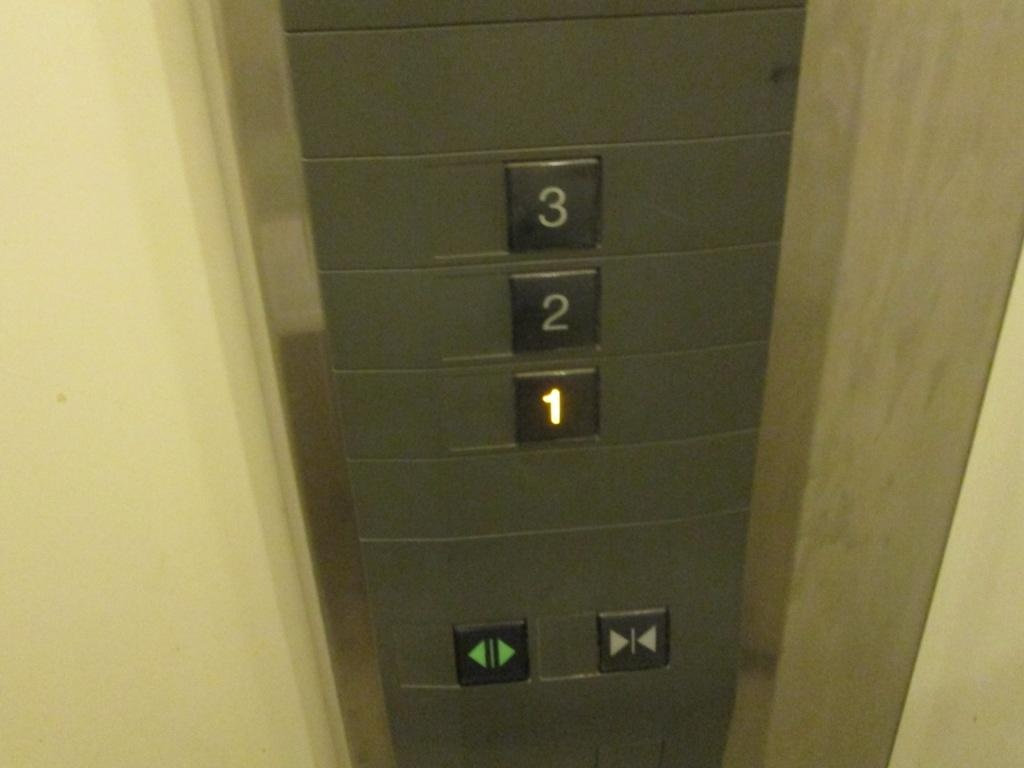1: (509, 364, 603, 449)
2: (507, 265, 604, 356)
3: (502, 154, 604, 253)
close: (591, 605, 675, 676)
open: (451, 616, 532, 690)
